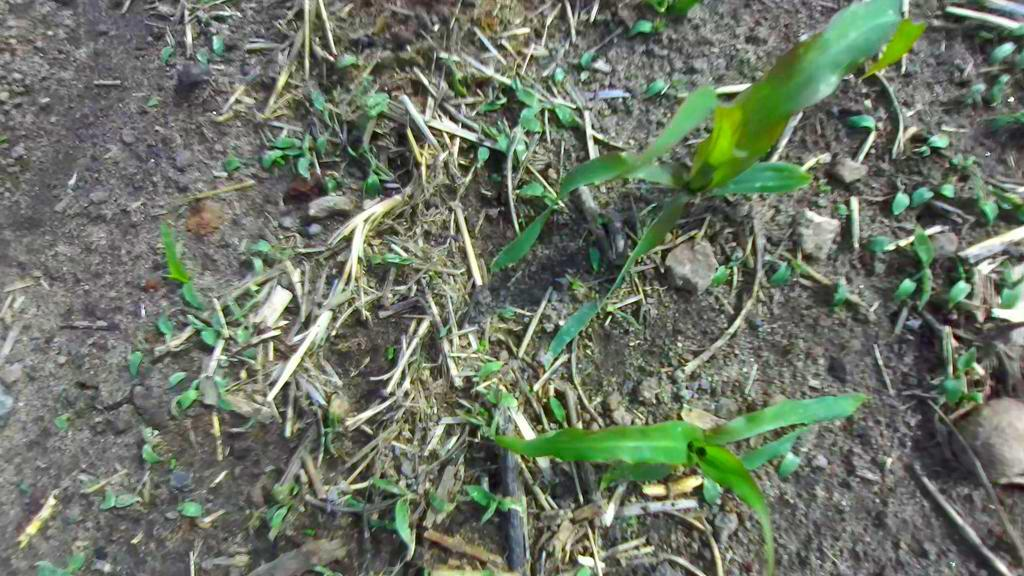BroWeed: (368, 463, 438, 548), (462, 468, 526, 528), (413, 473, 474, 524), (225, 280, 278, 328), (935, 338, 968, 408), (302, 77, 341, 130), (433, 51, 474, 101), (535, 94, 586, 132), (174, 310, 222, 348), (888, 263, 928, 308), (914, 222, 934, 311), (504, 74, 546, 116), (980, 34, 1019, 78), (321, 393, 349, 454), (979, 69, 1019, 111), (707, 248, 745, 292), (488, 120, 521, 169), (98, 485, 144, 520), (909, 128, 955, 163), (256, 136, 302, 171), (163, 381, 204, 420), (772, 441, 809, 484), (969, 183, 1005, 227), (501, 113, 531, 164), (453, 402, 495, 438), (33, 550, 90, 576), (264, 496, 305, 532), (258, 489, 294, 528), (294, 125, 319, 180), (947, 343, 984, 379), (240, 234, 288, 261), (623, 14, 669, 42), (359, 86, 395, 120), (516, 177, 558, 206), (604, 302, 644, 332), (948, 257, 971, 309), (471, 353, 507, 386), (949, 78, 987, 109), (476, 384, 520, 410), (330, 46, 373, 72), (138, 422, 165, 463), (155, 25, 181, 67), (207, 100, 248, 126), (310, 118, 334, 161), (366, 156, 398, 188), (152, 311, 182, 345), (124, 338, 148, 380), (294, 354, 325, 386), (637, 73, 669, 104), (362, 146, 381, 198), (903, 182, 937, 211), (267, 476, 302, 504), (205, 25, 234, 58), (366, 508, 400, 536), (240, 253, 267, 288), (560, 272, 594, 299), (547, 393, 571, 431), (193, 43, 224, 72), (702, 474, 722, 517), (223, 292, 247, 324), (221, 148, 248, 176), (861, 235, 903, 253), (159, 367, 189, 392), (518, 105, 544, 133), (768, 258, 792, 288), (330, 83, 350, 119), (892, 177, 910, 216), (227, 321, 253, 348), (832, 277, 848, 320), (985, 109, 1013, 133), (475, 95, 508, 115), (156, 292, 182, 317), (845, 113, 878, 132), (342, 142, 367, 167), (174, 500, 205, 519), (894, 242, 924, 261), (950, 149, 977, 170), (543, 195, 570, 216), (579, 49, 595, 84), (215, 347, 238, 370), (186, 369, 207, 394), (967, 25, 996, 43), (352, 111, 372, 137), (207, 307, 227, 333), (370, 253, 413, 265), (243, 405, 262, 431), (927, 181, 956, 198), (553, 66, 568, 98), (861, 90, 877, 116), (961, 388, 985, 405), (833, 194, 850, 217), (791, 246, 804, 276), (210, 375, 230, 394), (52, 411, 73, 429), (324, 175, 342, 196), (270, 136, 301, 148), (874, 252, 890, 275), (554, 272, 573, 291), (587, 246, 601, 270), (345, 496, 367, 510), (625, 514, 639, 536), (494, 306, 516, 320), (145, 93, 162, 111), (240, 343, 258, 360), (816, 177, 832, 196), (945, 167, 960, 187), (488, 410, 498, 440), (644, 0, 669, 12), (141, 477, 152, 504), (425, 268, 442, 285), (1013, 46, 1024, 71), (477, 145, 489, 166), (162, 509, 180, 522), (360, 74, 374, 90), (476, 405, 492, 419), (218, 392, 231, 409), (490, 382, 508, 393), (246, 283, 260, 297), (299, 526, 317, 536), (573, 566, 591, 576), (1012, 109, 1024, 124), (489, 172, 503, 184), (239, 363, 248, 380), (386, 344, 395, 360), (168, 457, 177, 471), (478, 335, 487, 349), (582, 279, 596, 288), (0, 129, 7, 142), (143, 461, 152, 471), (276, 157, 287, 165), (598, 216, 608, 224)
Maize: (494, 390, 884, 576)
NarWeed: (142, 213, 207, 319)
